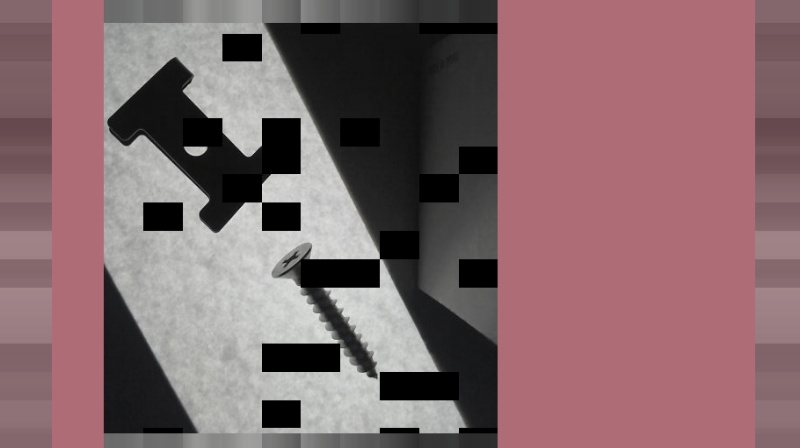O002: (106, 55, 281, 233)
S001: (269, 240, 381, 382)
